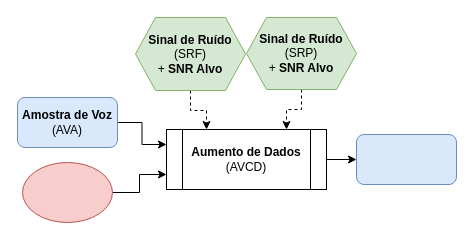
Some shapes in this 474 by 240 pixel diagram are drawn without their labels. The shapes that lost their labels are listed below. From the top down, each one's centre as x and y in pixels, then its label:
At point 406,159: "Amostra de Voz (AVCD)".
At point 67,192: "RIRSM".
